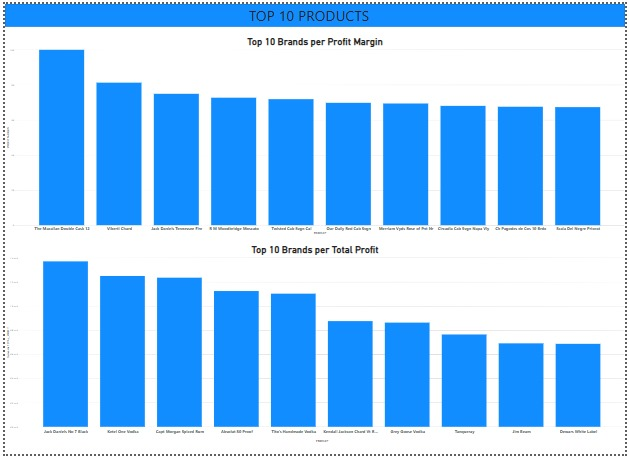

What the dashboard file says about the page in this screenshot:
{"tool":"powerbi","page":{"name":"Top 10 Products","canvas":[3100,2250],"ordinal":1},"visuals":[{"type":"shape","box":[0,0,3100,113.8],"z":0},{"type":"columnChart","title":"Top 10 Brands per Profit Margin","fields":{"Category":["TOP_10_PER_PROFIT_MARGIN.PRODUCT"],"Y":["Sum(TOP_10_PER_PROFIT_MARGIN.PROFIT_MARGIN_PERCENTAGE)"]},"box":[0,158.6,3100,1000],"z":1000},{"type":"columnChart","title":"Top 10 Brands per Total Profit","fields":{"Category":["TOP_10_PER_TOTAL_PROFIT.PRODUCT"],"Y":["Sum(TOP_10_PER_TOTAL_PROFIT.TOTAL_PROFIT)"]},"box":[0,1200,3100,1000],"z":2000},{"type":"textbox","box":[1213.8,0,651.7,113.8],"z":3000}]}

Visuals, with their boxes in screenshot pixels (x1, y1, x2, y2), scaled from the page's 3100x2250 canvas onto the 629x459 screenshot:
shape: box(0, 0, 628, 23)
"Top 10 Brands per Profit Margin" columnChart: box(0, 32, 628, 236)
"Top 10 Brands per Total Profit" columnChart: box(0, 245, 628, 449)
textbox: box(246, 0, 379, 23)
